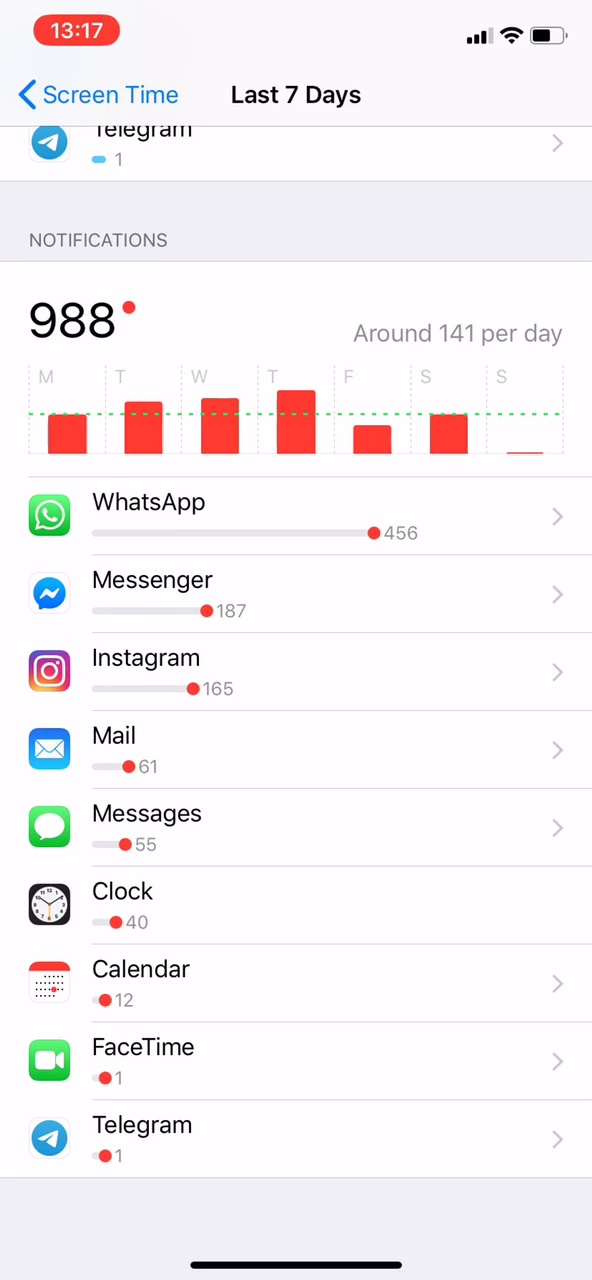not_app: (25, 477, 454, 553), (25, 866, 312, 941), (22, 555, 284, 636), (18, 708, 267, 789), (20, 791, 289, 864), (17, 946, 279, 1019), (20, 638, 292, 705), (15, 1024, 257, 1097), (15, 1103, 237, 1163)
not_over: (18, 203, 212, 352)
week: (213, 81, 384, 114)
